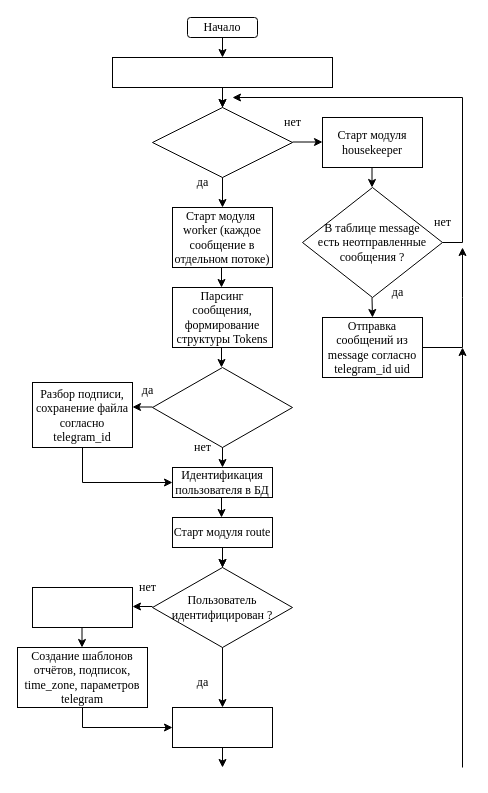
This 488x793 diagram has some shape labels left out. The box of each missing label's shape, as (x1, y1, x2, y2) in pixels:
Загрузка конфигурационной информации, запуск telegram-бота: (112, 56, 332, 88)
К сообщению прикреплен файл ?: (152, 366, 292, 448)
Получение action из Tokens: (172, 706, 272, 748)
Пришли новые сообщения ?: (152, 106, 292, 178)
Регистрация нового пользователя: (32, 586, 132, 628)
